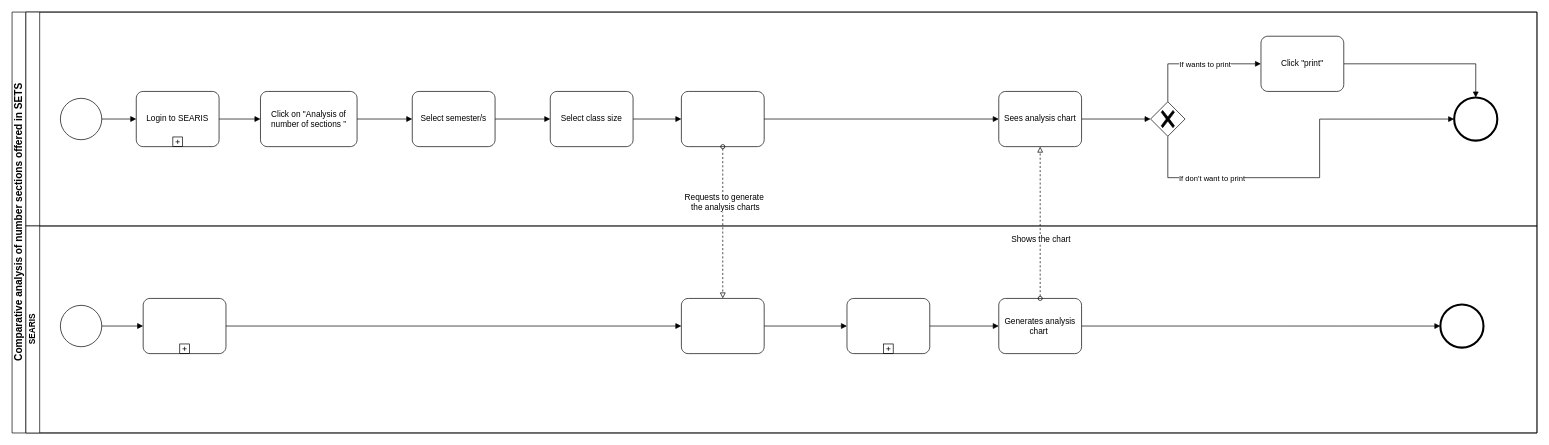
The diagram is 1549 pixels wide and 445 high, and some of its shapes have lost their labels. Each missing label, with the box of its shape:
Approves login: (142, 298, 226, 354)
Background calculation: (846, 298, 930, 354)
Higher Authorities: (25, 11, 1537, 226)
Press show result: (681, 91, 764, 147)
Receives request: (681, 298, 764, 354)
